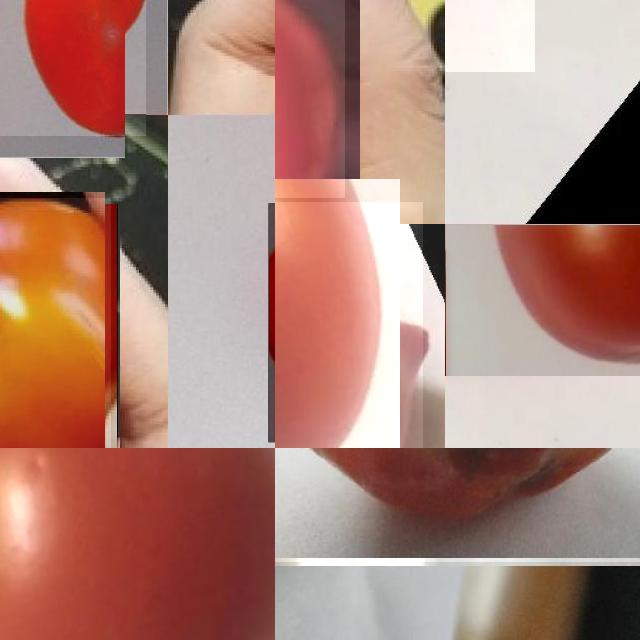0: (0, 198, 111, 448), (0, 0, 146, 136)
1: (275, 448, 640, 562)
Fresh Tomato: (0, 448, 275, 640), (275, 201, 422, 448), (445, 224, 640, 376)
